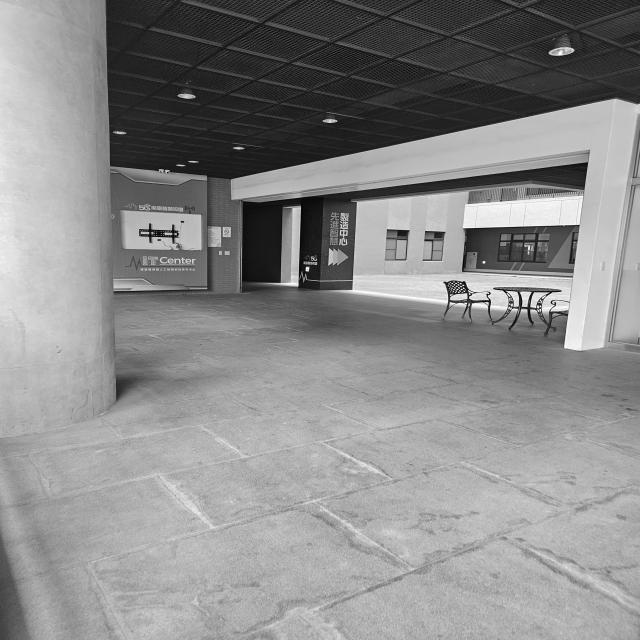Road-Object: (1, 289, 640, 640)
